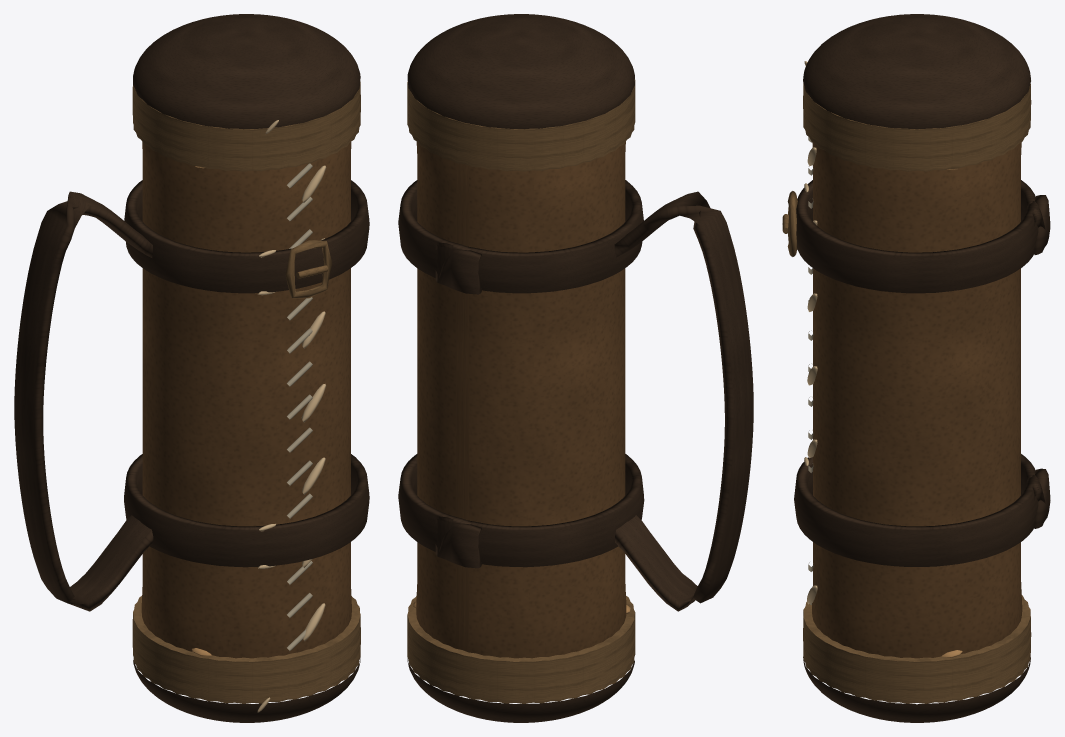
3 views of the same model, side by side, from view 1: azimuth 30°, elevation 25°; view 2: azimuth 150°, elevation 25°; view 3: azimuth 270°, elevation 25° (orthographic).
Parts seen in each view (by area): view 1: tanned leather, oiled strap leather, aged alloy edge, waxed linen thread, thread loop; view 2: tanned leather, oiled strap leather, aged alloy edge; view 3: tanned leather, oiled strap leather, aged alloy edge, thread loop.
Part boxes in pixels (<box>): tanned leather: <box>141,142,351,658</box>; oiled strap leather: <box>14,14,369,722</box>; aged alloy edge: <box>132,82,360,703</box>; waxed linen thread: <box>287,163,312,650</box>; thread loop: <box>301,165,326,641</box>; tanned leather: <box>416,142,626,658</box>; oiled strap leather: <box>398,14,753,722</box>; aged alloy edge: <box>407,79,635,703</box>; tanned leather: <box>812,142,1022,658</box>; oiled strap leather: <box>794,14,1050,722</box>; aged alloy edge: <box>782,83,1031,703</box>; thread loop: <box>807,147,817,604</box>.
Size of the model in its own units: 0.1139 by 0.2196 by 0.0798.
6 materials, 4 textured.
